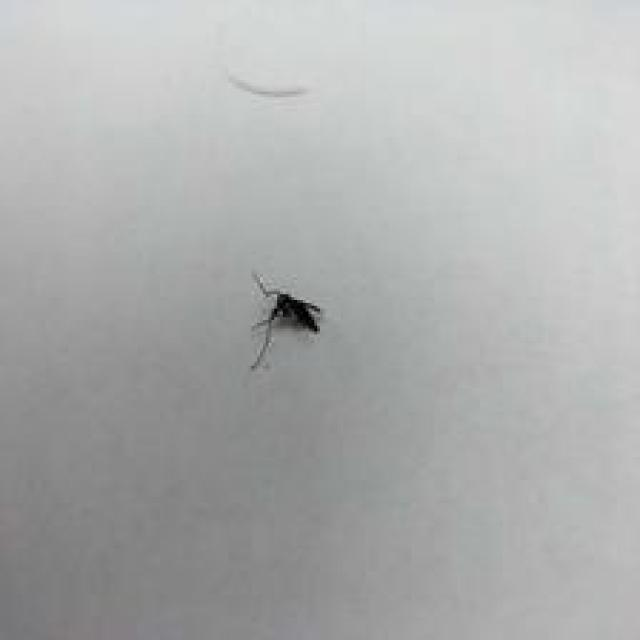Aedes albopictus: (248, 268, 323, 372)
